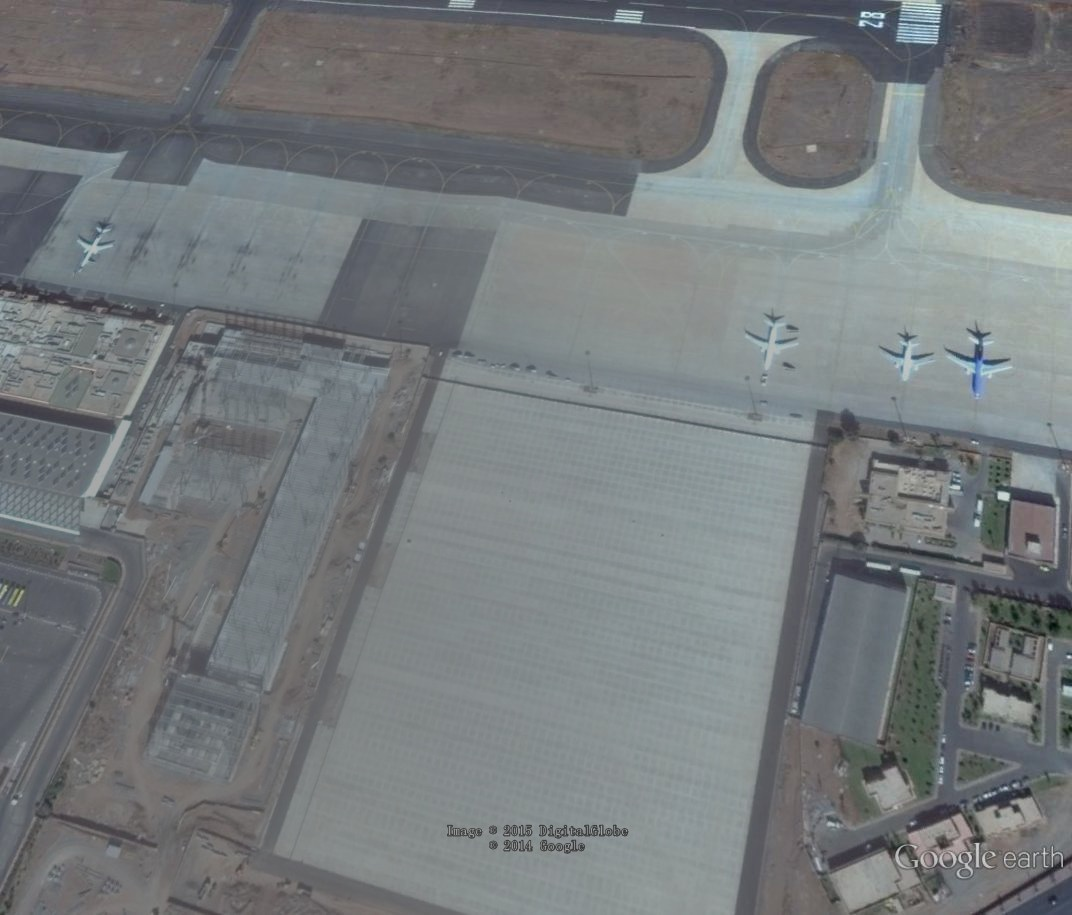aircraft: (942, 330, 1017, 400), (742, 316, 799, 375), (879, 336, 942, 387), (74, 219, 119, 271)
